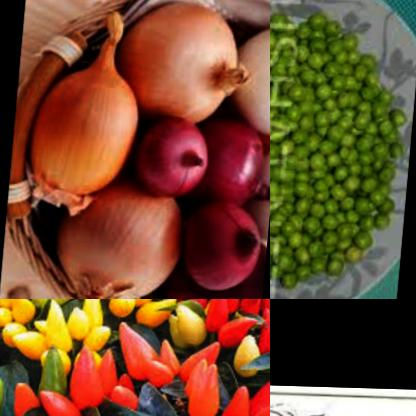hot pepper: (110, 313, 236, 411), (13, 338, 148, 416), (0, 299, 123, 357), (164, 299, 270, 364), (75, 299, 207, 338), (226, 367, 270, 416), (0, 368, 23, 416)
onion: (29, 10, 152, 203), (55, 177, 197, 299), (126, 4, 250, 123), (191, 201, 270, 296), (196, 118, 270, 216), (140, 120, 217, 201), (232, 19, 270, 134)
peas: (270, 3, 416, 291)
